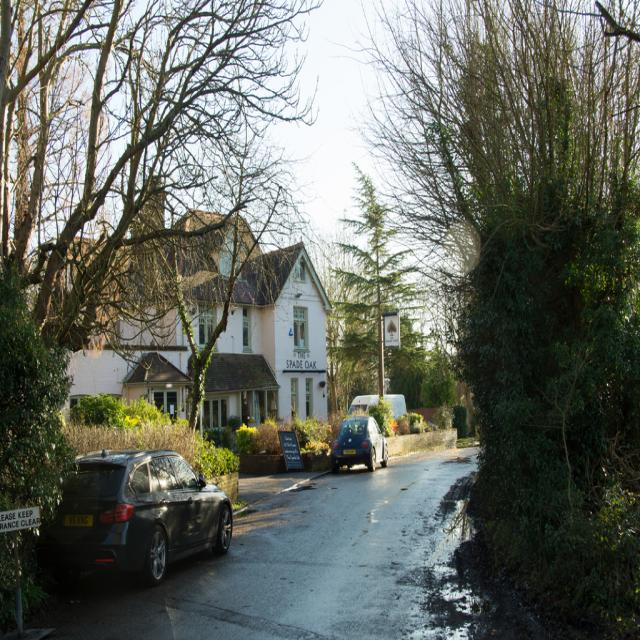car: (46, 453, 227, 595), (328, 418, 387, 467)
